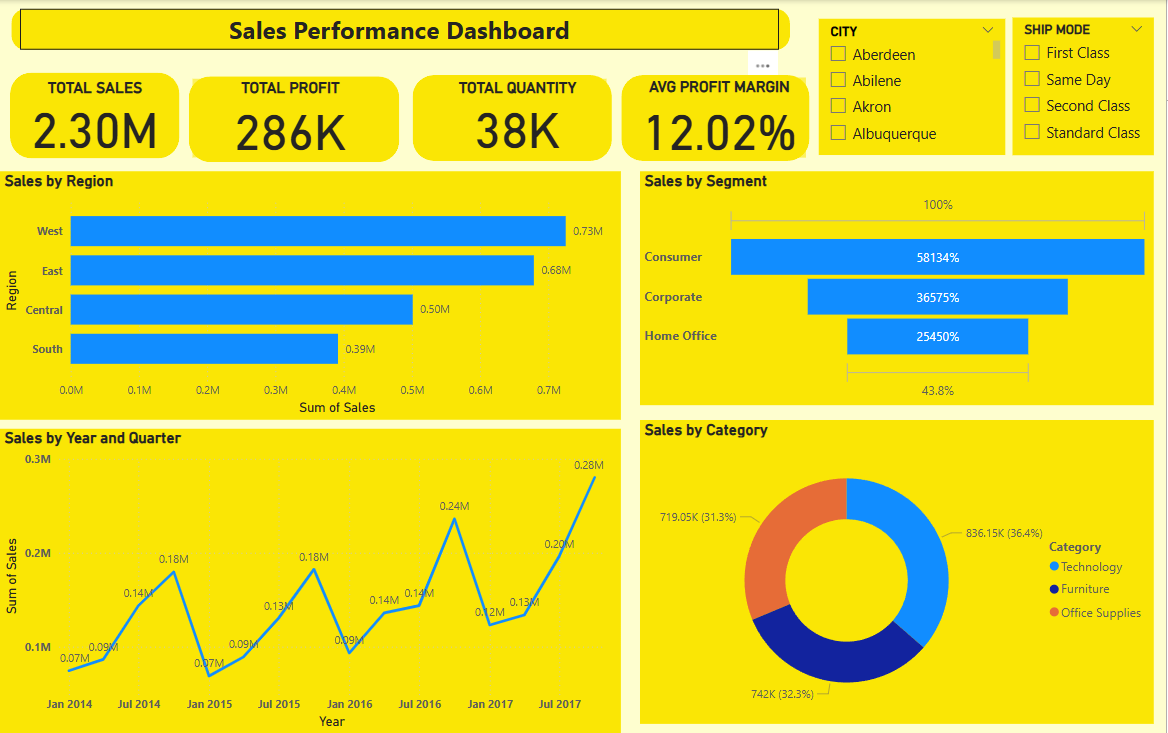

The dashboard page shown, as its layout file describes it:
{"tool":"powerbi","page":{"name":"Page 1","canvas":[1280,805],"ordinal":0},"visuals":[{"type":"shape","box":[12.3,9.6,854.9,45.3],"z":0},{"type":"textbox","box":[22,9.6,832.9,45.3],"z":1000},{"type":"group","id":"g1","title":"Group 1","box":[11,79.6,186.6,94.7],"z":2000},{"type":"shape","box":[11,79.6,186.6,94.7],"z":2000,"group":"g1"},{"type":"shape","box":[452.8,82.3,219.6,94.7],"z":2000,"group":"g3"},{"type":"shape","box":[682,82.3,207.2,94.7],"z":2000,"group":"g4"},{"type":"shape","box":[207.2,83.7,231.9,94.7],"z":2000,"group":"g2"},{"type":"group","id":"g2","title":"Group 1","box":[207.2,83.7,231.9,94.7],"z":3000},{"type":"card","title":"AVG PROFIT MARGIN","fields":{"Values":["Avg(Sample - Superstore.Profit Margin)"]},"box":[694.4,84.7,190.7,87.8],"z":3000,"group":"g4"},{"type":"card","title":"TOTAL QUANTITY","fields":{"Values":["Sum(Sample - Superstore.Quantity)"]},"box":[470.9,86,194.9,82.3],"z":3000,"group":"g3"},{"type":"card","title":"TOTAL SALES","fields":{"Values":["Sum(Sample - Superstore.Sales)"]},"box":[22,86.5,164.7,82.3],"z":3000,"group":"g1"},{"type":"card","title":"TOTAL PROFIT","fields":{"Values":["Sum(Sample - Superstore.Profit)"]},"box":[212,86.8,214.9,86.4],"z":3000,"group":"g2"},{"type":"group","id":"g3","title":"Group 1","box":[452.8,82.3,219.6,94.7],"z":4000},{"type":"group","id":"g4","title":"Group 1","box":[682,82.3,207.2,94.7],"z":5000},{"type":"lineChart","title":"Sales by Year and Quarter","fields":{"Y":["Sum(Sample - Superstore.Sales)"],"Category":["Sample - Superstore.Order Date.Variation.Date Hierarchy.Year","Sample - Superstore.Order Date.Variation.Date Hierarchy.Quarter"]},"box":[0,470.7,682,334.8],"z":6000},{"type":"barChart","title":"Sales by Region","fields":{"Category":["Sample - Superstore.Region"],"Y":["Sum(Sample - Superstore.Sales)"]},"box":[0,188,682,273.1],"z":7000},{"type":"donutChart","title":"Sales by Category","fields":{"Y":["Sum(Sample - Superstore.Sales)"],"Category":["Sample - Superstore.Category"]},"box":[702.6,461.1,564,333.4],"z":8000},{"type":"funnel","title":" Sales by Segment","fields":{"Category":["Sample - Superstore.Segment"],"Y":["Sample - Superstore.TOTAL PROFIT MARGIN"]},"box":[702.6,188,564,256.6],"z":8001},{"type":"slicer","title":"CITY","fields":{"Values":["Sample - Superstore.City"]},"box":[898.8,20.6,204.5,149.6],"z":8002},{"type":"slicer","fields":{"Values":["Sample - Superstore.Ship Mode"]},"box":[1111.5,19.2,155.1,150.9],"z":8003}]}

Visuals, with their boxes in screenshot pixels (x1, y1, x2, y2), scaled from the page's 1280x805 canvas onto the 1168x733 screenshot:
shape: select_region(11, 9, 791, 50)
textbox: select_region(20, 9, 780, 50)
"Group 1" group: select_region(10, 72, 180, 159)
shape: select_region(10, 72, 180, 159)
shape: select_region(413, 75, 614, 161)
shape: select_region(622, 75, 811, 161)
shape: select_region(189, 76, 401, 162)
"Group 1" group: select_region(189, 76, 401, 162)
"AVG PROFIT MARGIN" card: select_region(634, 77, 808, 157)
"TOTAL QUANTITY" card: select_region(430, 78, 608, 153)
"TOTAL SALES" card: select_region(20, 79, 170, 154)
"TOTAL PROFIT" card: select_region(193, 79, 390, 158)
"Group 1" group: select_region(413, 75, 614, 161)
"Group 1" group: select_region(622, 75, 811, 161)
"Sales by Year and Quarter" lineChart: select_region(0, 429, 622, 732)
"Sales by Region" barChart: select_region(0, 171, 622, 420)
"Sales by Category" donutChart: select_region(641, 420, 1156, 723)
" Sales by Segment" funnel: select_region(641, 171, 1156, 405)
"CITY" slicer: select_region(820, 19, 1007, 155)
slicer - Sample - Superstore.Ship Mode: select_region(1014, 17, 1156, 155)
